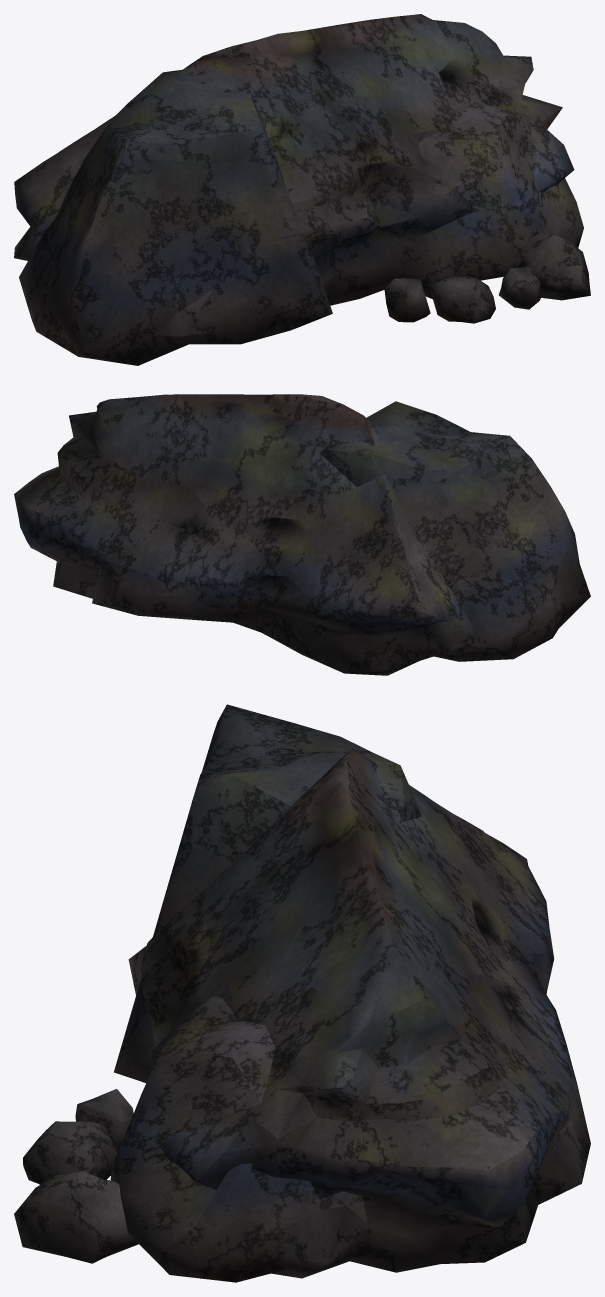
Rendered from cliff_shelf.glb.
The picture shows the model from 3 angles, top to bottom: view 1: azimuth 30°, elevation 25°; view 2: azimuth 150°, elevation 25°; view 3: azimuth 270°, elevation 25°; orthographic projection. The views are drawn at different scales.
Visible parts, largest first — view 1: cliff_shelf; view 2: cliff_shelf; view 3: cliff_shelf.
Boxes of the visible parts, x1=… form: cliff_shelf: x1=14, y1=14, x2=590, y2=365; cliff_shelf: x1=14, y1=394, x2=590, y2=675; cliff_shelf: x1=14, y1=704, x2=590, y2=1282.
Bounding box in the file's own units: 9.98 × 4.48 × 6.71.
Materials: 1 (1 with a texture image).
